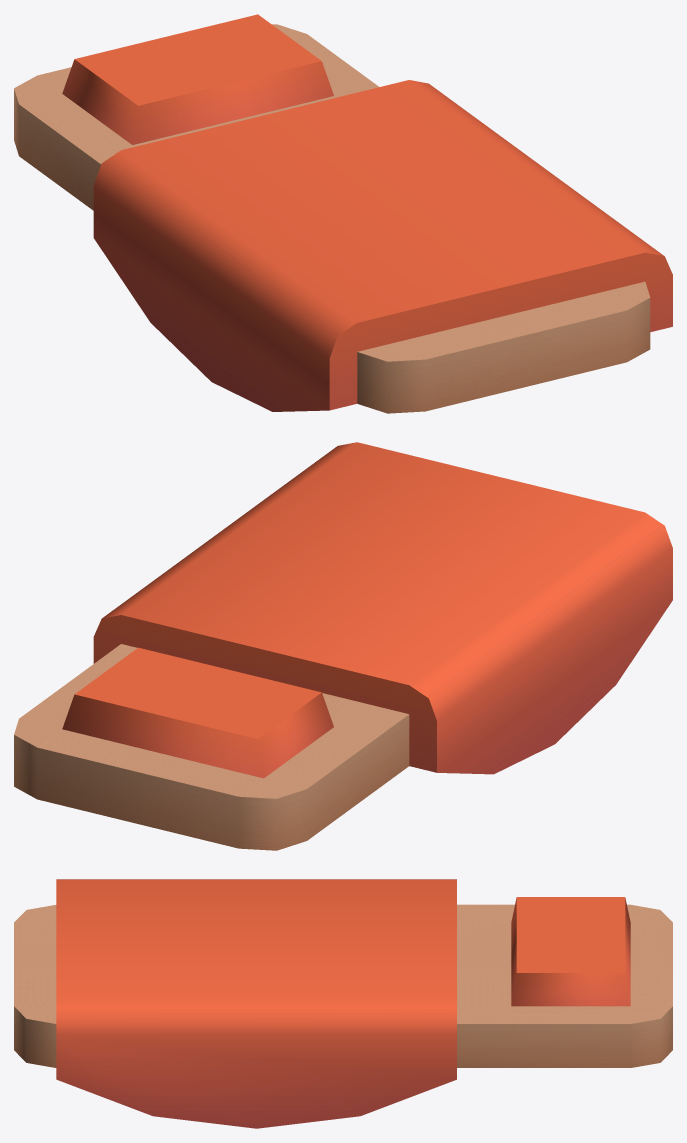
The model's file is bedroll.glb.
The picture shows the model from 3 angles, top to bottom: view 1: azimuth 30°, elevation 25°; view 2: azimuth 150°, elevation 25°; view 3: azimuth 270°, elevation 25°; orthographic projection. The views are drawn at different scales.
Parts seen in each view (by area): view 1: blanket, bedroll; view 2: blanket, bedroll; view 3: blanket, bedroll.
Part boxes in pixels (left/top/right/bottom): blanket: left=93, top=80, right=672, bottom=411; bedroll: left=14, top=14, right=650, bottom=413; blanket: left=93, top=442, right=672, bottom=774; bedroll: left=14, top=644, right=409, bottom=850; blanket: left=56, top=879, right=456, bottom=1128; bedroll: left=14, top=897, right=672, bottom=1067.
Size of the model in its own units: 0.3104 by 0.1248 by 0.6076.
Materials: 1 (1 with a texture image).
